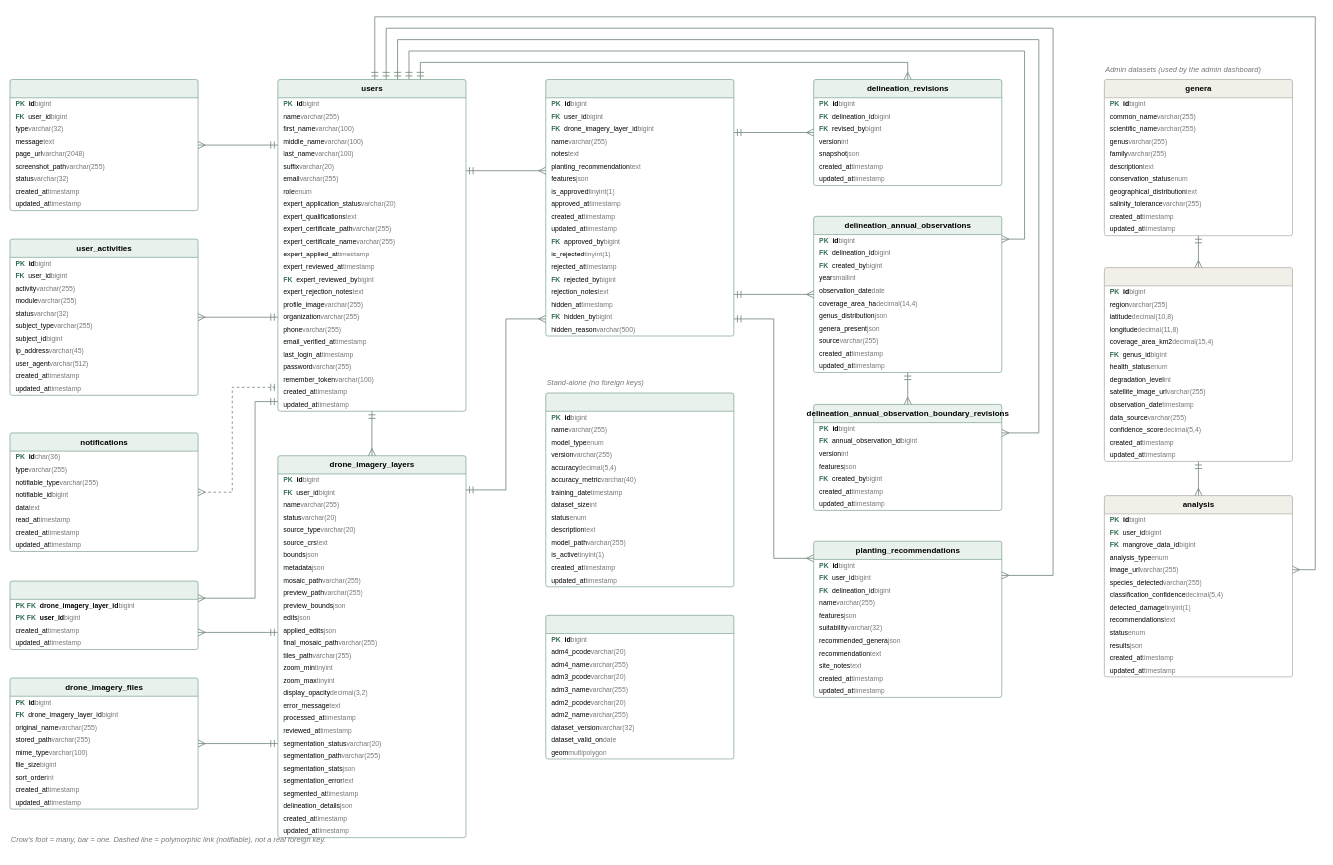
The diagram is 1333 pixels wide and 865 high, and some of its shapes have lost their labels. The box of each missing label's shape, as (x1, y1, x2, y2) in pixels:
admin_boundaries: (545, 615, 734, 759)
ai_models: (545, 392, 734, 587)
delineations: (545, 79, 734, 336)
drone_imagery_layer_hidden_users: (9, 581, 198, 650)
feedback: (9, 79, 198, 211)
mangrove_data: (1104, 267, 1292, 461)
